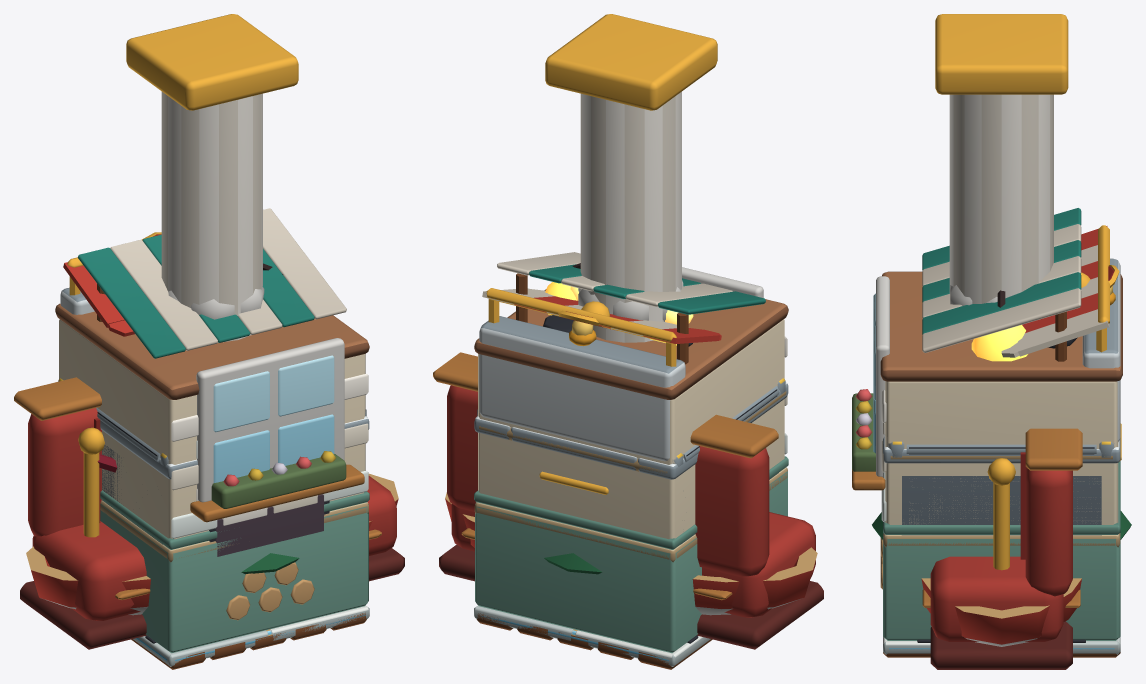
File: kitchen-kit.glb
The picture shows the model from 3 angles, left to right: view 1: azimuth 30°, elevation 25°; view 2: azimuth 150°, elevation 25°; view 3: azimuth 270°, elevation 25°; orthographic projection. The views are drawn at different scales.
Parts seen in each view (by area): view 1: wall_Wall, prop_column_Gloss, prop_bench_Paint, prop_awning_Paint, prop_window_Paint, prop_window_Gloss, oven_Paint, stove_Paint, prop_boat_Paint, floor_tile_Floor, prop_rope_Gloss, gate_plank_Paint (+7 smaller); view 2: wall_Wall, prop_column_Gloss, prop_bench_Paint, return_Gloss, prop_awning_Paint, prop_boat_Paint, serve_Gloss, sink_Gloss, oven_Paint, floor_tile_Floor, serve_Paint, gate_plank_Paint (+6 smaller); view 3: wall_Wall, prop_column_Gloss, prop_bench_Paint, prop_awning_Paint, belt_Paint, prop_window_Paint, prop_boat_Paint, serve_Paint, return_Gloss, prop_rope_Gloss, belt_Gloss, serve_Gloss (+7 smaller).
Boxes of the visible parts, box(x1,y1,x2,y2) form: wall_Wall: box(55, 303, 369, 653); prop_column_Gloss: box(126, 14, 298, 342); prop_bench_Paint: box(14, 377, 404, 649); prop_awning_Paint: box(78, 208, 346, 358); prop_window_Paint: box(190, 338, 364, 522); prop_window_Gloss: box(213, 355, 334, 482); oven_Paint: box(100, 500, 368, 620); stove_Paint: box(209, 494, 329, 556); prop_boat_Paint: box(26, 473, 398, 615); floor_tile_Floor: box(133, 605, 369, 666); prop_rope_Gloss: box(78, 427, 104, 537); gate_plank_Paint: box(131, 612, 366, 669); wall_Wall: box(474, 289, 788, 653); prop_column_Gloss: box(545, 14, 717, 342); prop_bench_Paint: box(433, 352, 823, 649); return_Gloss: box(479, 316, 685, 461); prop_awning_Paint: box(497, 252, 765, 364); prop_boat_Paint: box(445, 492, 817, 615); serve_Gloss: box(486, 288, 676, 366); sink_Gloss: box(474, 382, 788, 479); oven_Paint: box(474, 315, 787, 562); floor_tile_Floor: box(474, 605, 710, 666); serve_Paint: box(482, 288, 721, 346); gate_plank_Paint: box(476, 613, 712, 669); wall_Wall: box(880, 271, 1122, 640); prop_column_Gloss: box(935, 14, 1068, 303); prop_bench_Paint: box(930, 428, 1082, 669); prop_awning_Paint: box(922, 208, 1081, 361); belt_Paint: box(902, 447, 1101, 535); prop_window_Paint: box(852, 276, 889, 490); prop_boat_Paint: box(921, 578, 1081, 646); serve_Paint: box(1001, 226, 1114, 357); return_Gloss: box(1082, 258, 1120, 441); prop_rope_Gloss: box(987, 458, 1015, 570); belt_Gloss: box(887, 441, 1114, 457); serve_Gloss: box(1081, 225, 1119, 352).
Size of the model in its own units: 1.8 by 2.68 by 1.18.
